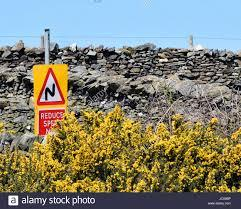double_bend_right: (33, 64, 67, 105)
